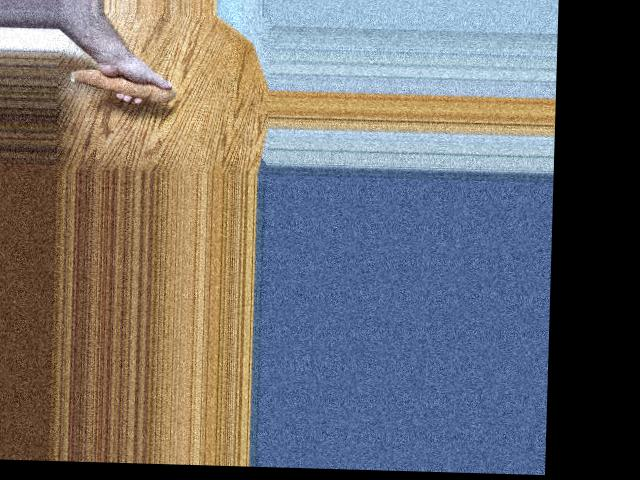sweet_potato: (65, 64, 175, 104)
